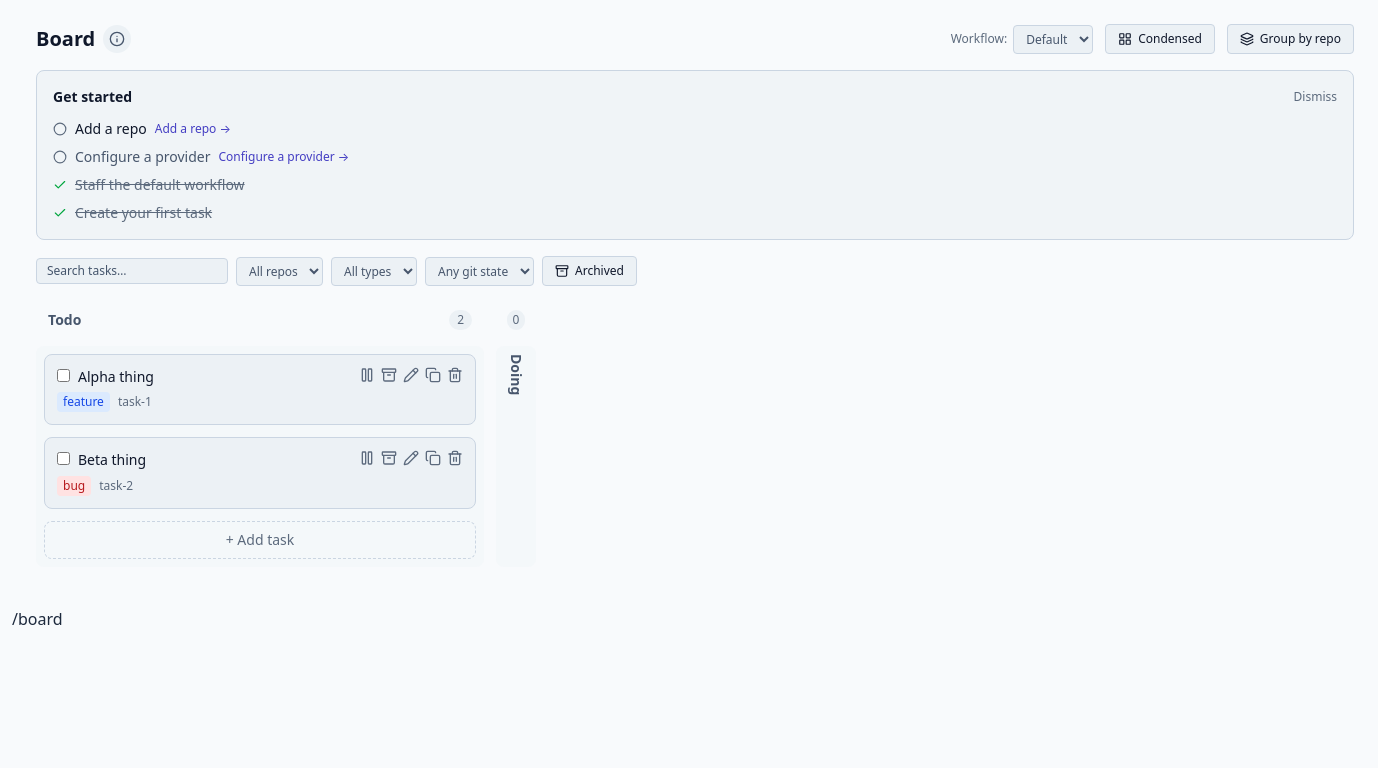
Test: BoardPage URL-persisted filters › writes filter changes to the URL with replace and clears them
expect the text "Alpha thing" is shown: met, box [78,367,154,386]
Type "alp" into the field with placeholder "Search tasks…" at [132, 271], box [36,258,228,284]
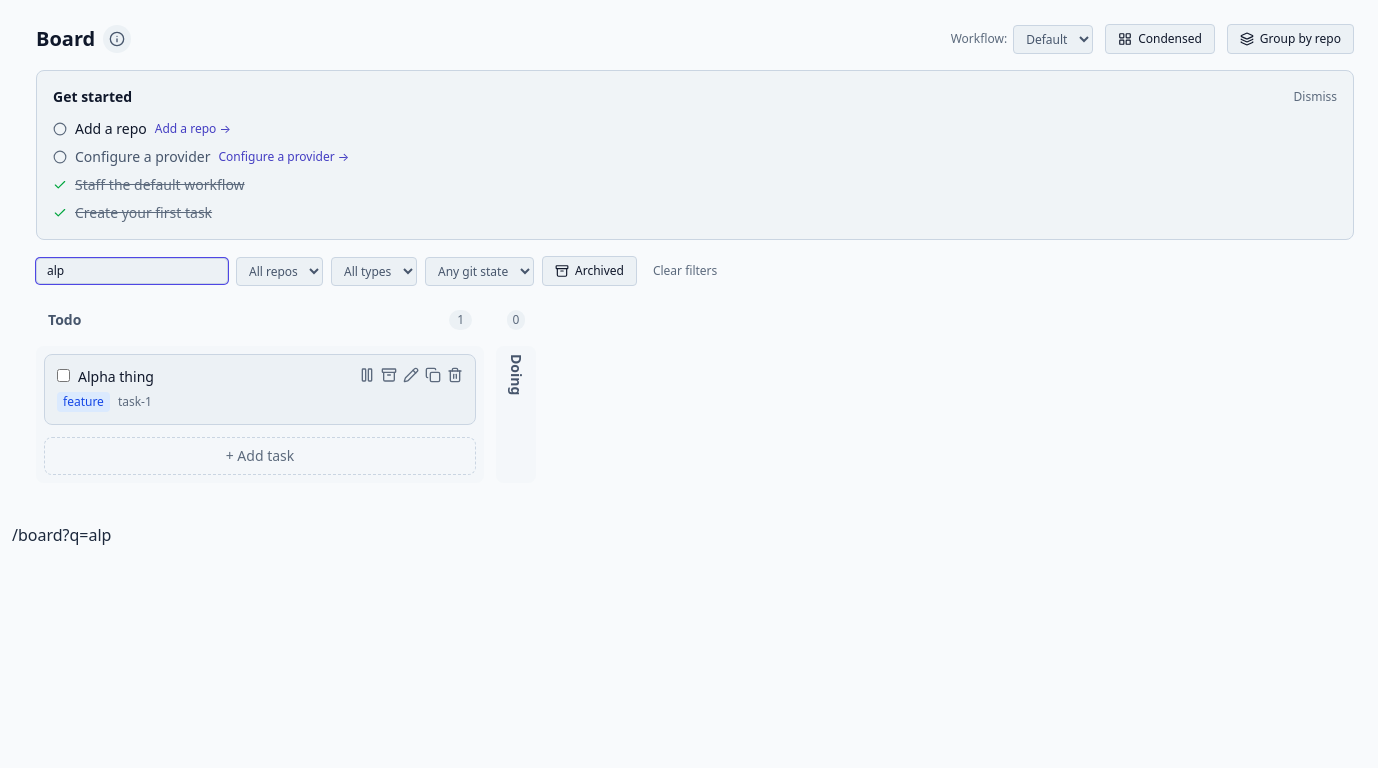
Select "feature" in the 3rd dropdown showing "All types" at [374, 271], box [331,256,417,286]
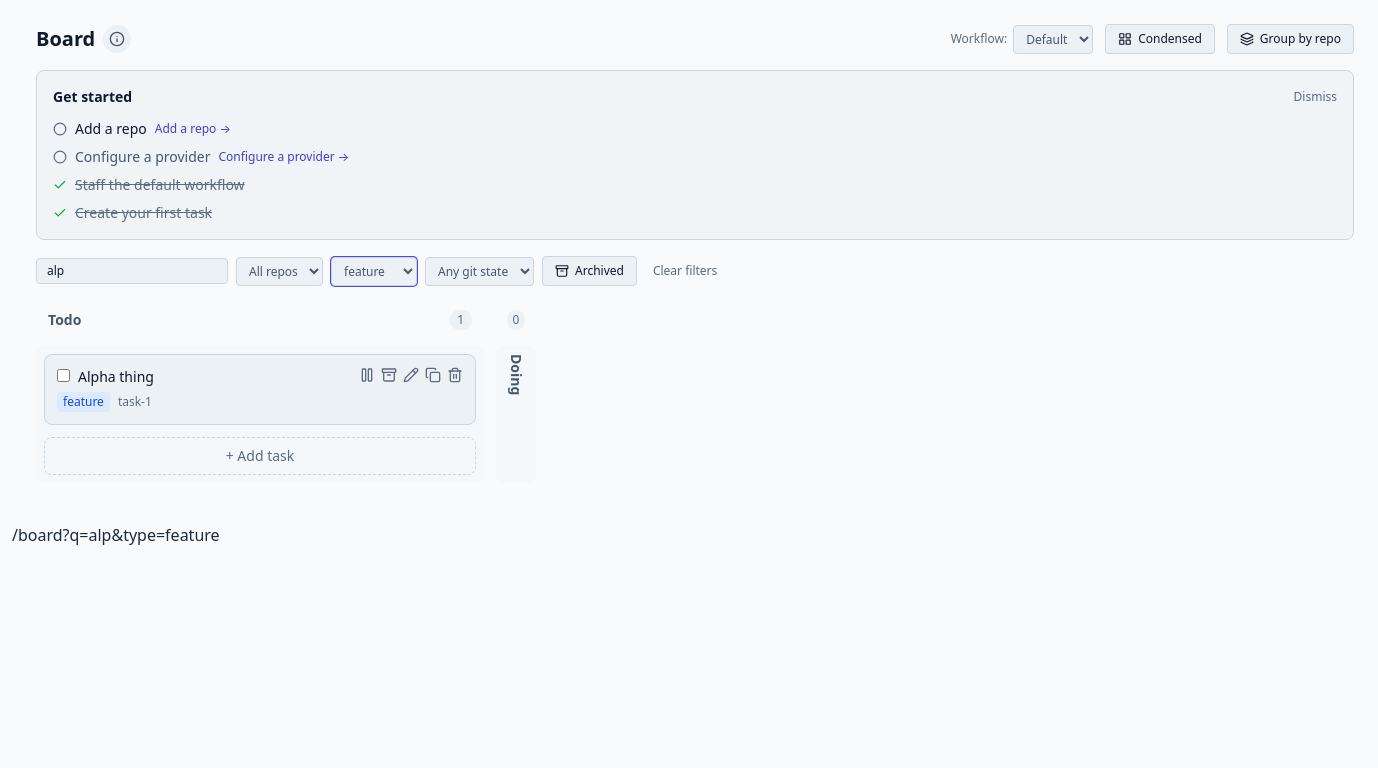
expect the text "Beta thing" is not shown: met
expect the text with test id "loc" reads "/board?q=alp&type=feature": met, box [12,524,220,546]
Click the button "Clear filters" at [685, 271], box [645,259,725,283]
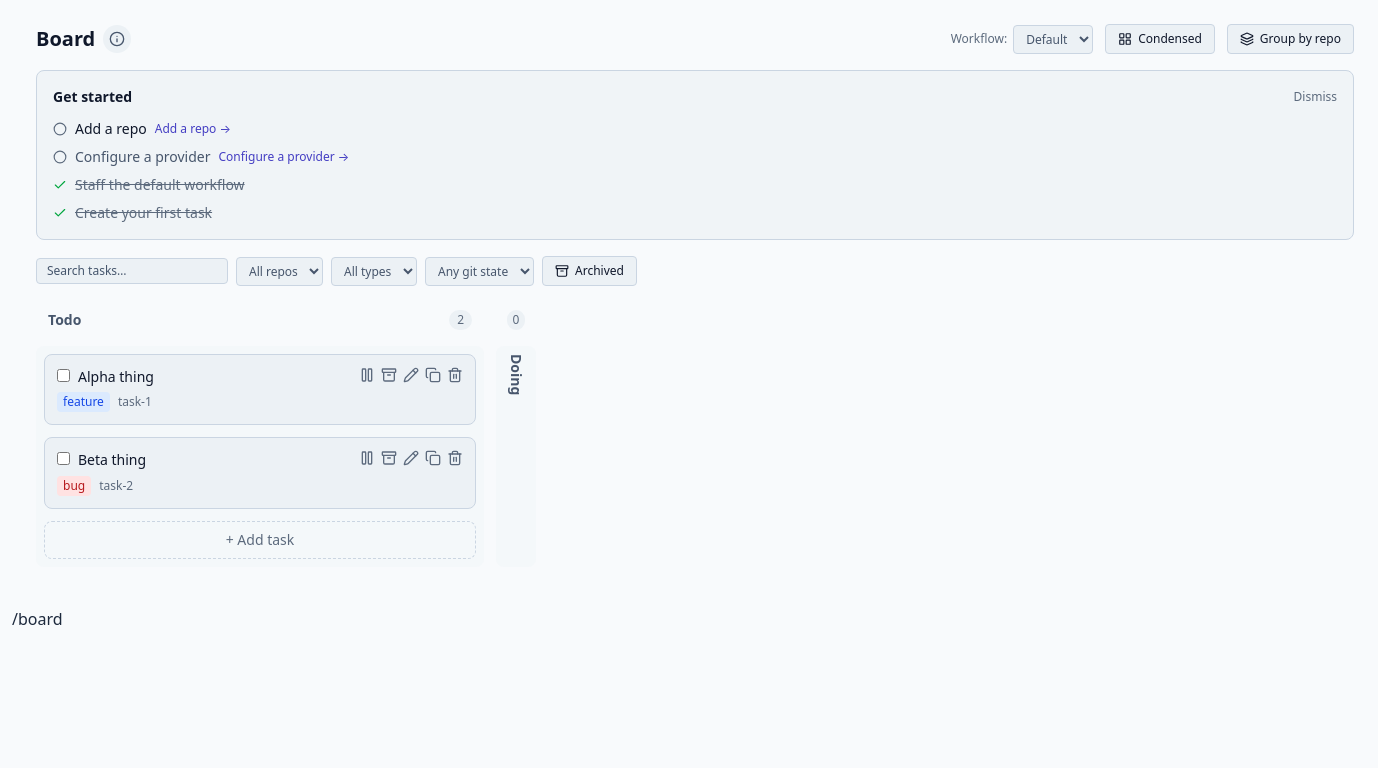
expect the text with test id "loc" reads "/board": met, box [12,608,63,630]
expect the text "Beta thing" is shown: met, box [78,450,146,469]
